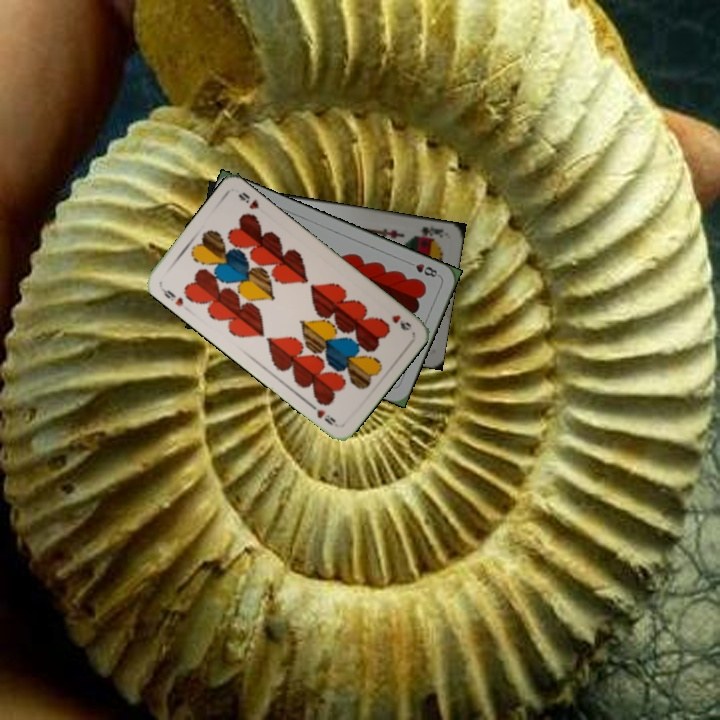H8: (403, 257, 442, 280)
H9: (157, 284, 186, 309), (387, 311, 414, 333)
SK: (410, 222, 446, 242)
